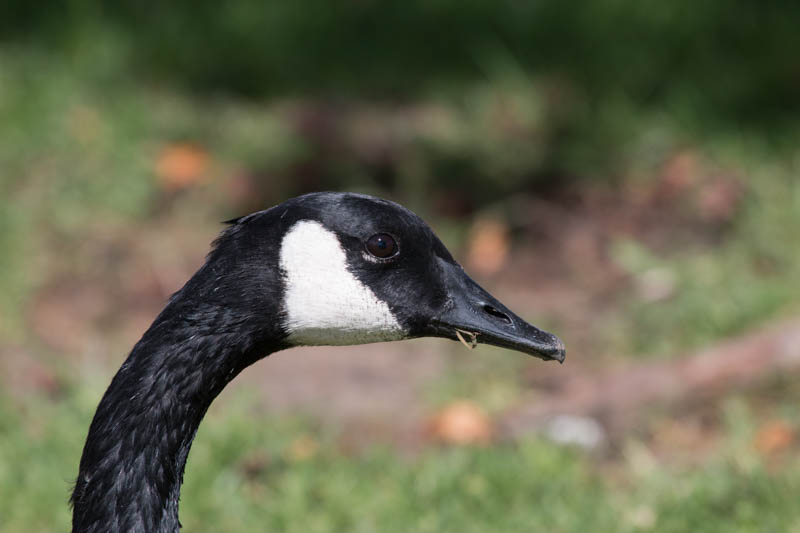goose-head: (238, 191, 567, 367)
